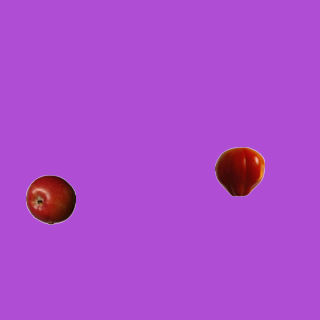Apple Braeburn: (25, 174, 75, 224)
Tomato 1: (214, 146, 264, 196)
